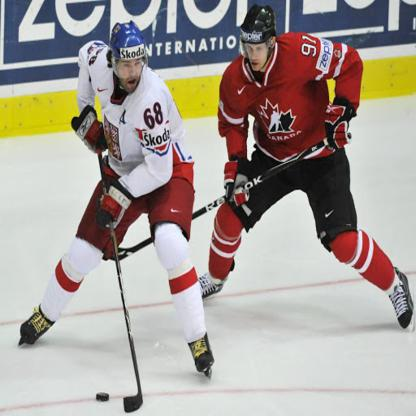face: (116, 47, 144, 94), (244, 27, 269, 74)
